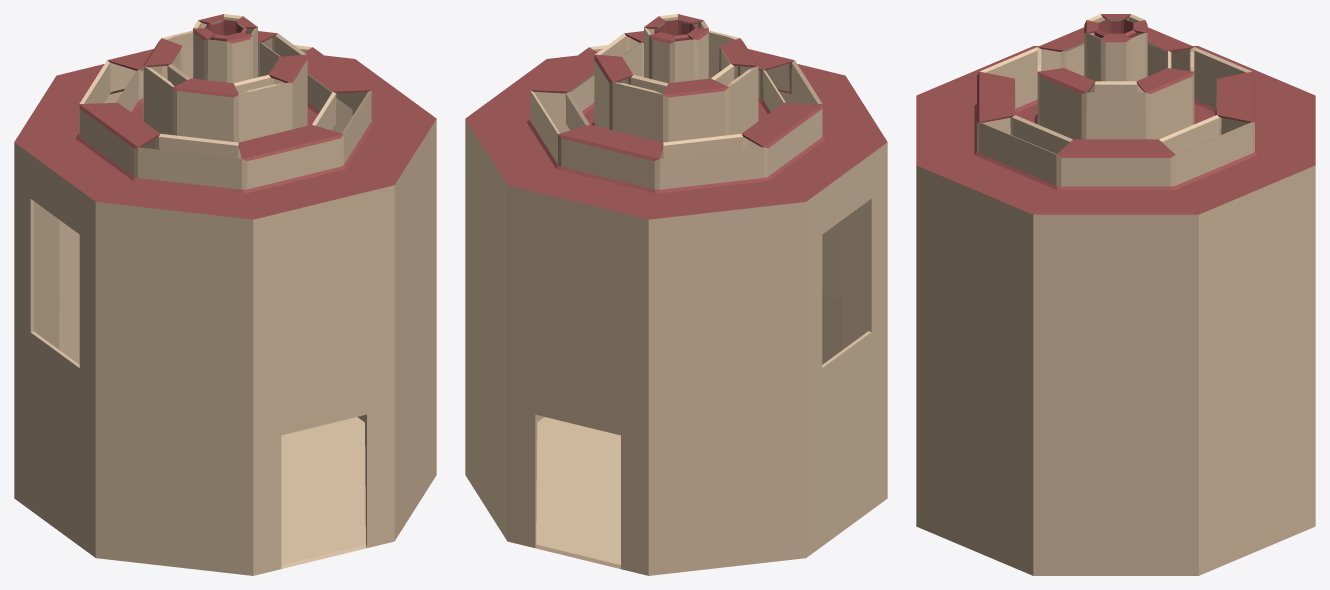
The model's file is Room4.fbx.
The picture shows the model from 3 angles, left to right: view 1: azimuth 30°, elevation 25°; view 2: azimuth 150°, elevation 25°; view 3: azimuth 270°, elevation 25°; orthographic projection.
Visible parts, largest first — view 1: Cylinder; view 2: Cylinder; view 3: Cylinder.
Part boxes in pixels (x1,y1,x2,y2): Cylinder: (14,14,436,575); Cylinder: (465,14,887,575); Cylinder: (916,14,1315,575).
Bounding box in the file's own units: 10015 × 12881 × 10015.
